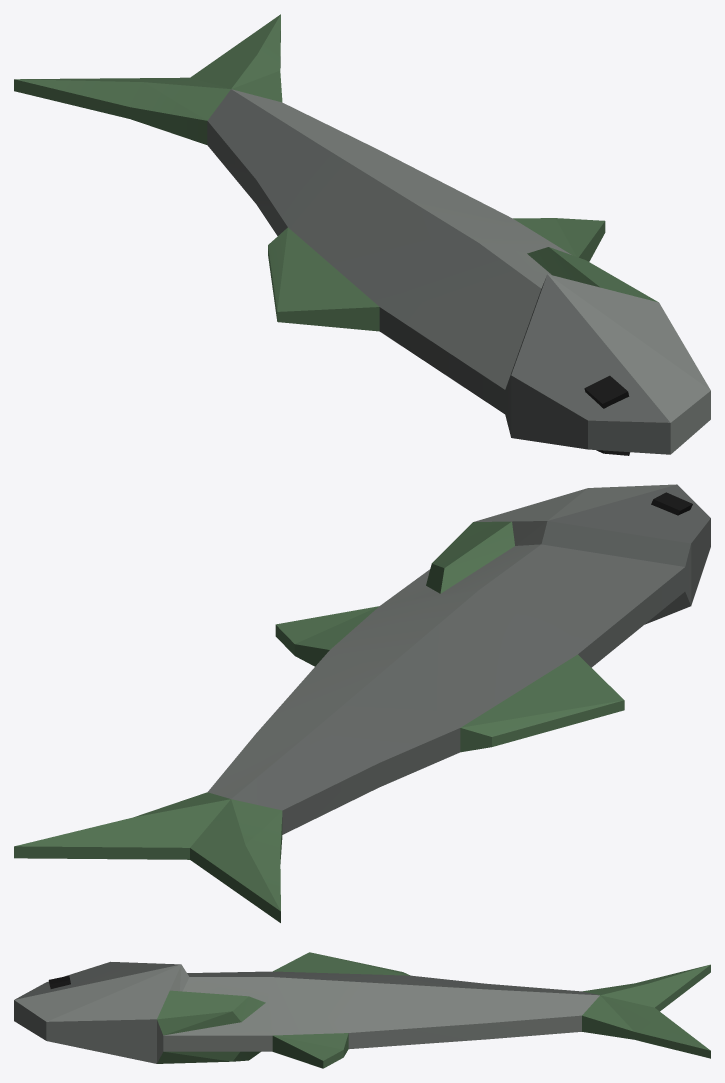
File: Pescado.glb
3 views of the same model, one above another, from view 1: azimuth 30°, elevation 25°; view 2: azimuth 150°, elevation 25°; view 3: azimuth 270°, elevation 25° (orthographic). The views are drawn at different scales.
Parts seen in each view (by area): view 1: SM_Prop_Fish_01_1; view 2: SM_Prop_Fish_01_1; view 3: SM_Prop_Fish_01_1.
Boxes of the visible parts, x1,y1,x2,y2 form: SM_Prop_Fish_01_1: [14, 14, 710, 455]; SM_Prop_Fish_01_1: [14, 484, 710, 922]; SM_Prop_Fish_01_1: [14, 952, 710, 1068].
Bounding box in the file's own units: 0.3416 × 0.1375 × 0.9204.
1 material, 1 textured.
